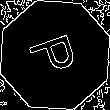P_E: (25, 29, 85, 81)
